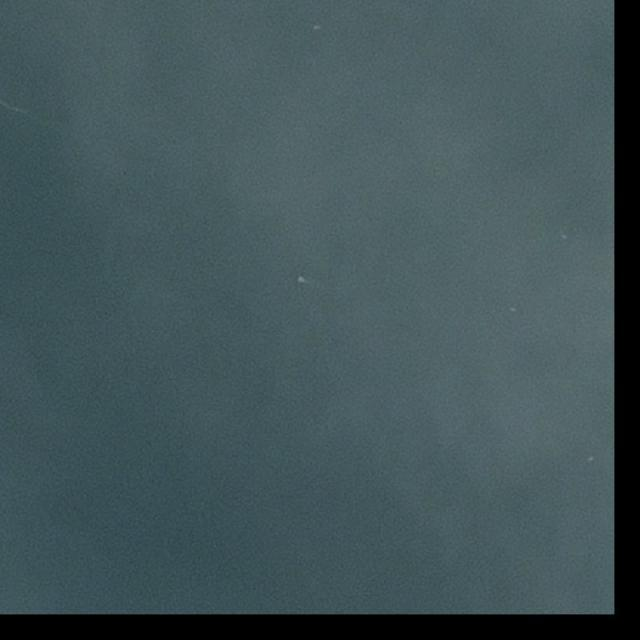ship: (294, 273, 308, 287), (314, 24, 320, 30)
